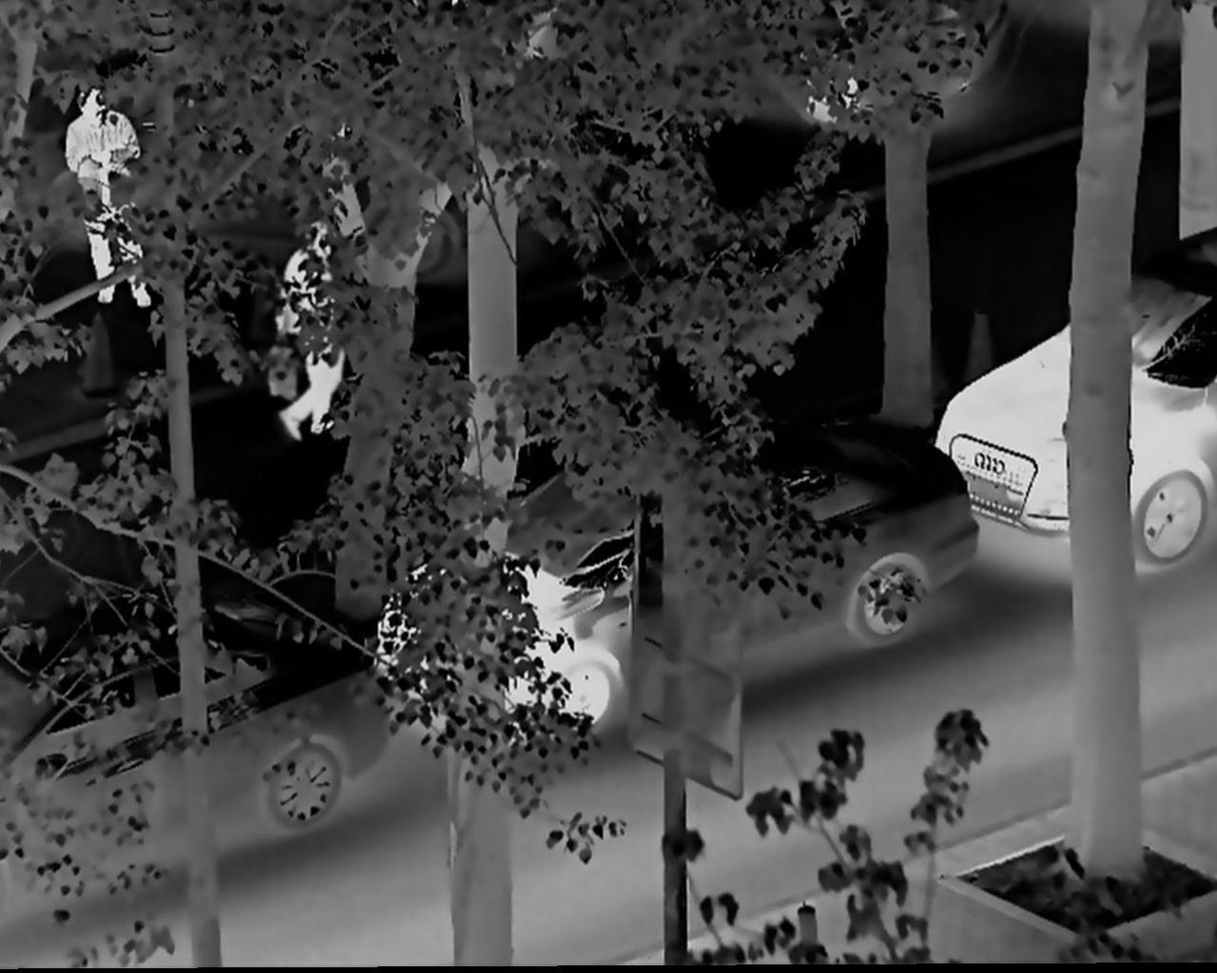person: (59, 85, 163, 313), (269, 213, 357, 445)
